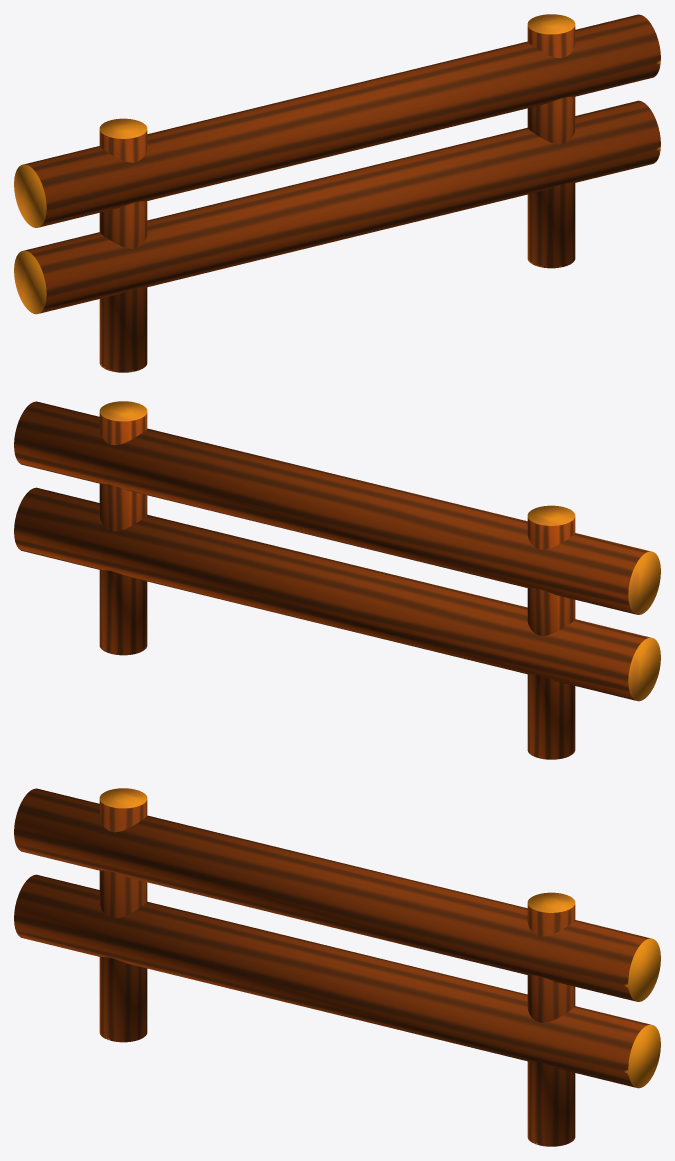
File: fence.fbx
The picture shows the model from 3 angles, top to bottom: view 1: azimuth 30°, elevation 25°; view 2: azimuth 150°, elevation 25°; view 3: azimuth 330°, elevation 25°; orthographic projection.
Visible parts, largest first — view 1: fence3; view 2: fence3; view 3: fence3.
Boxes of the visible parts, x1=… form: fence3: x1=14, y1=14, x2=660, y2=372; fence3: x1=14, y1=401, x2=660, y2=759; fence3: x1=14, y1=788, x2=660, y2=1146.
Bounding box in the file's own units: 392 × 142 × 36.02.
Materials: 1 (1 with a texture image).
